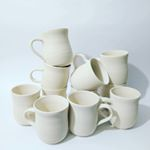cups: (21, 92, 71, 146), (66, 90, 114, 140), (98, 83, 144, 131), (28, 25, 76, 68), (67, 50, 112, 92), (9, 81, 44, 128), (26, 66, 71, 92)
